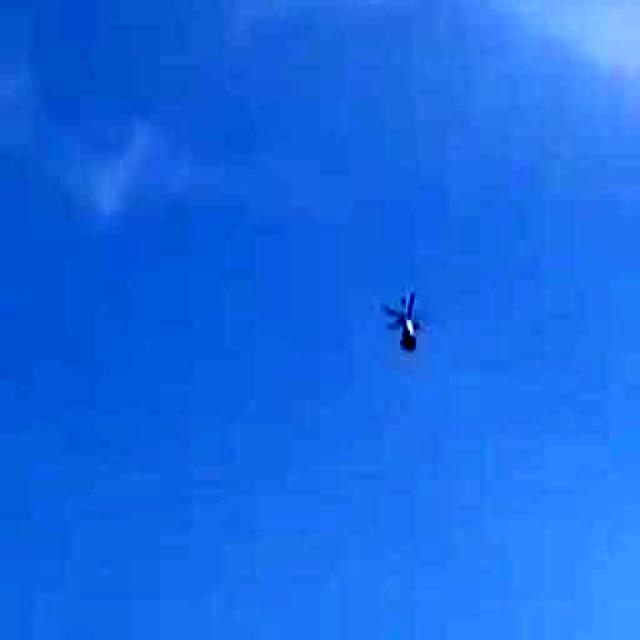drone: (365, 281, 451, 369)
